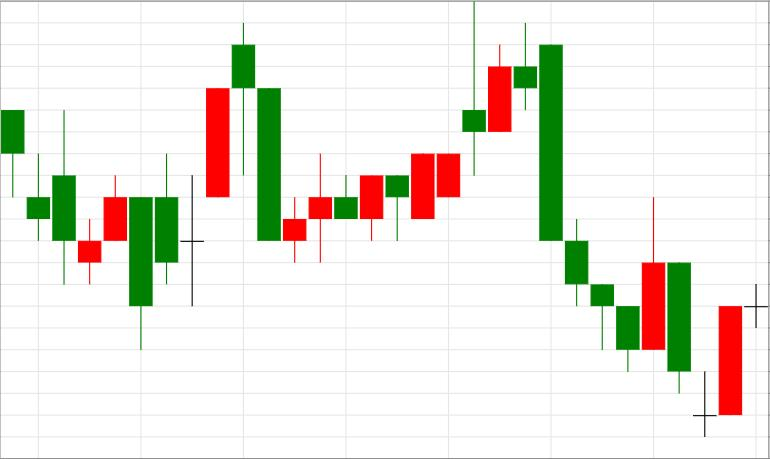morning_star_rise: (514, 23, 741, 437), (1, 109, 126, 284)
